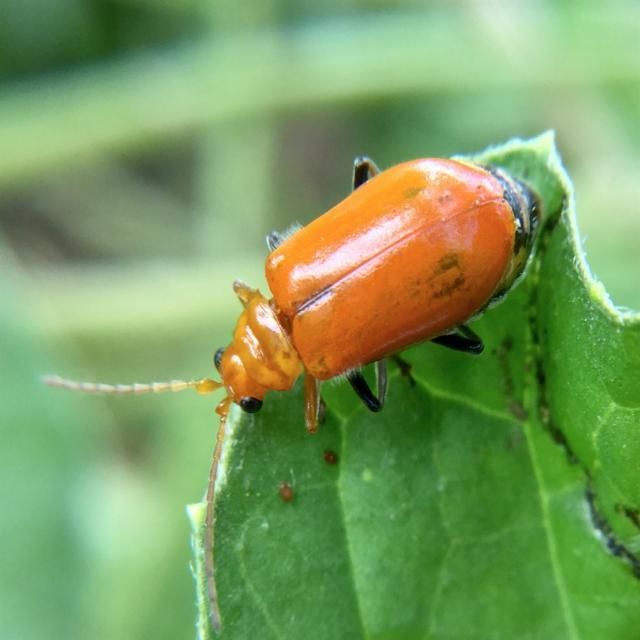Pumpkin Beetle: (34, 155, 544, 640)
